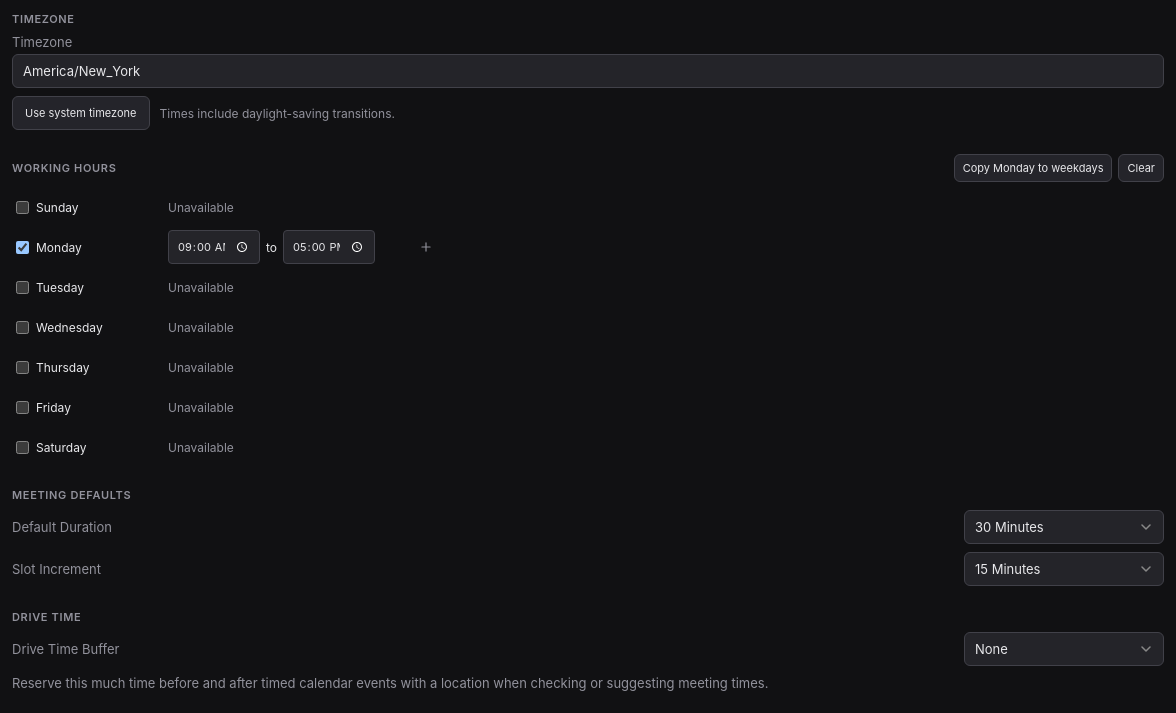
Test: AvailabilitySettings working hours › limits each day to the maximum number of slots
Click the button named "Add Monday slot". click: (426, 247)
box: [413,234,439,260]
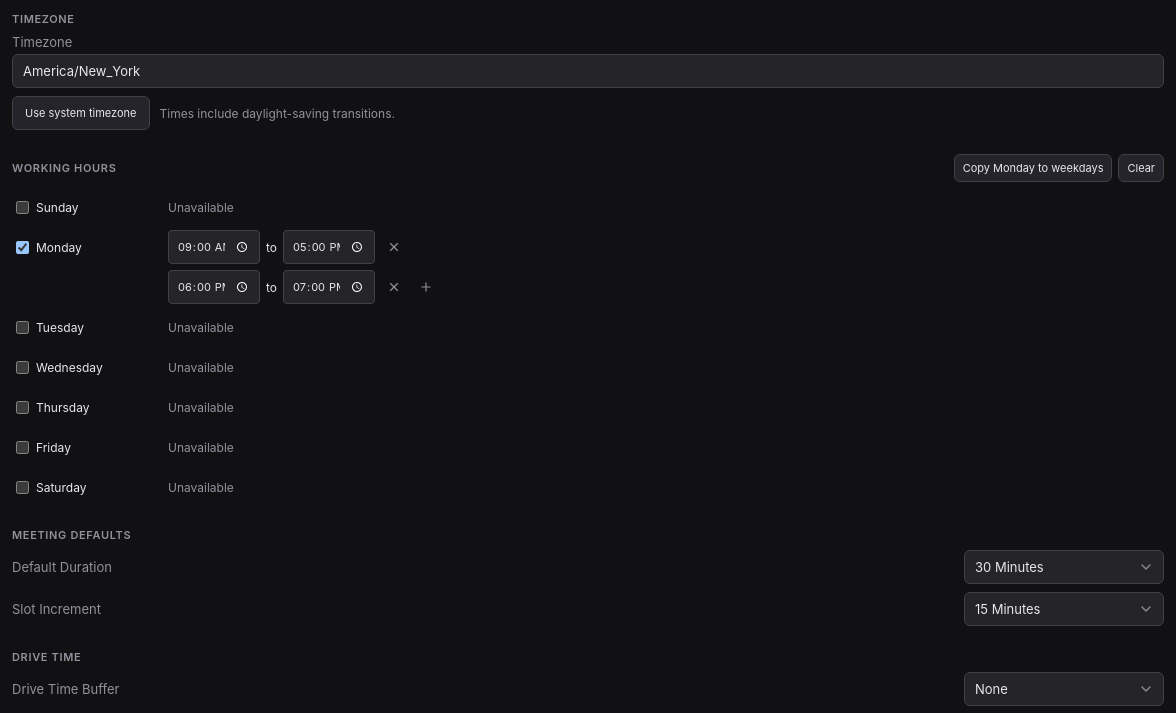
Click the button named "Add Monday slot". click: (426, 287)
box: [413,274,439,300]
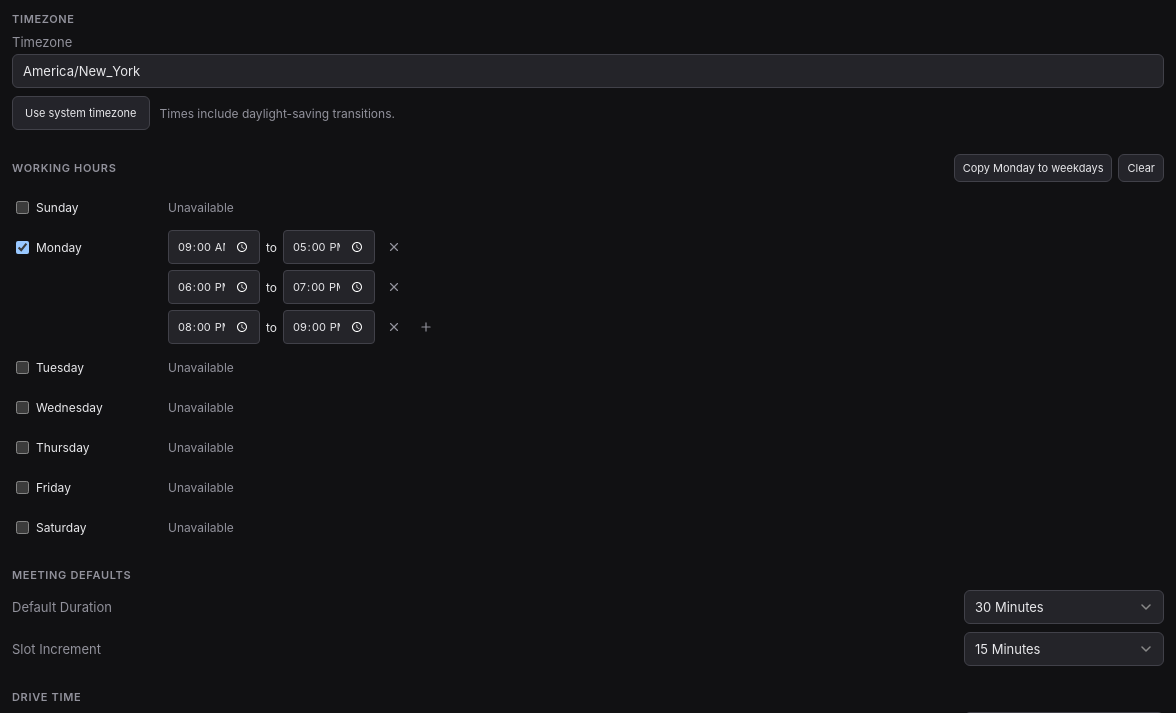
Click the button named "Add Monday slot". click: (426, 327)
box: [413,314,439,340]
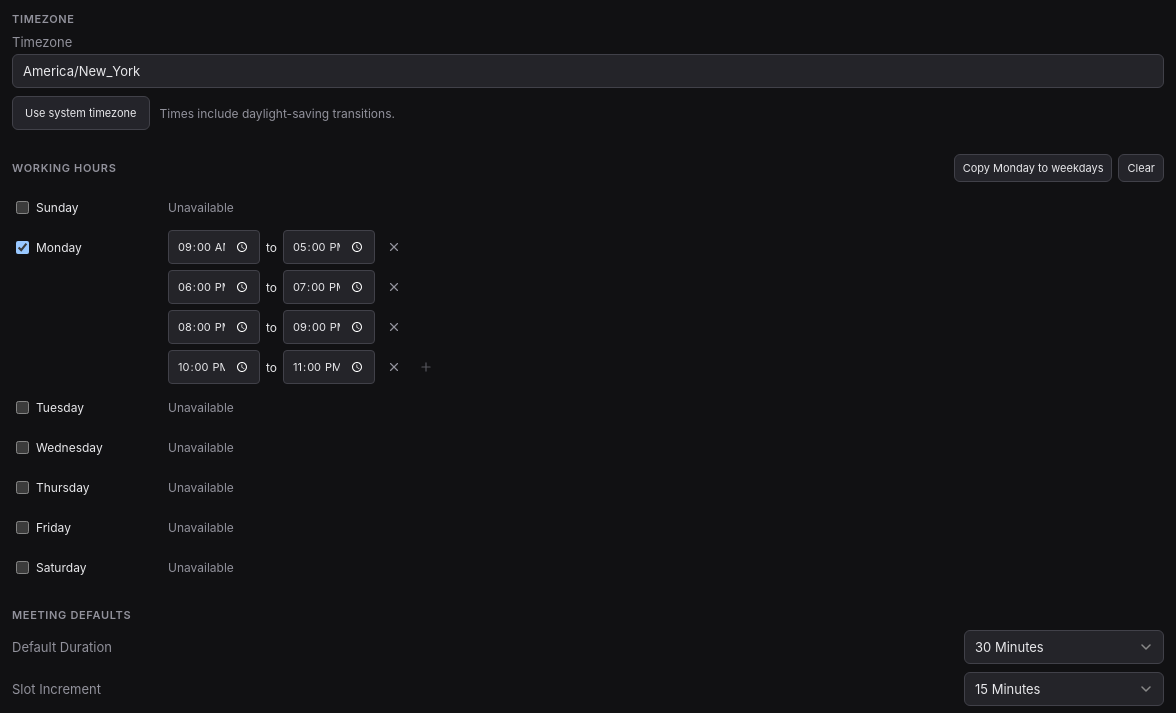
Expected: the number of time fields named "Monday Start" is 4, [168,230,260,264]; [168,270,260,304]; [168,310,260,344]; [168,350,260,384]
Expected: the button named "Add Monday slot" is disabled, [413,354,439,380]
